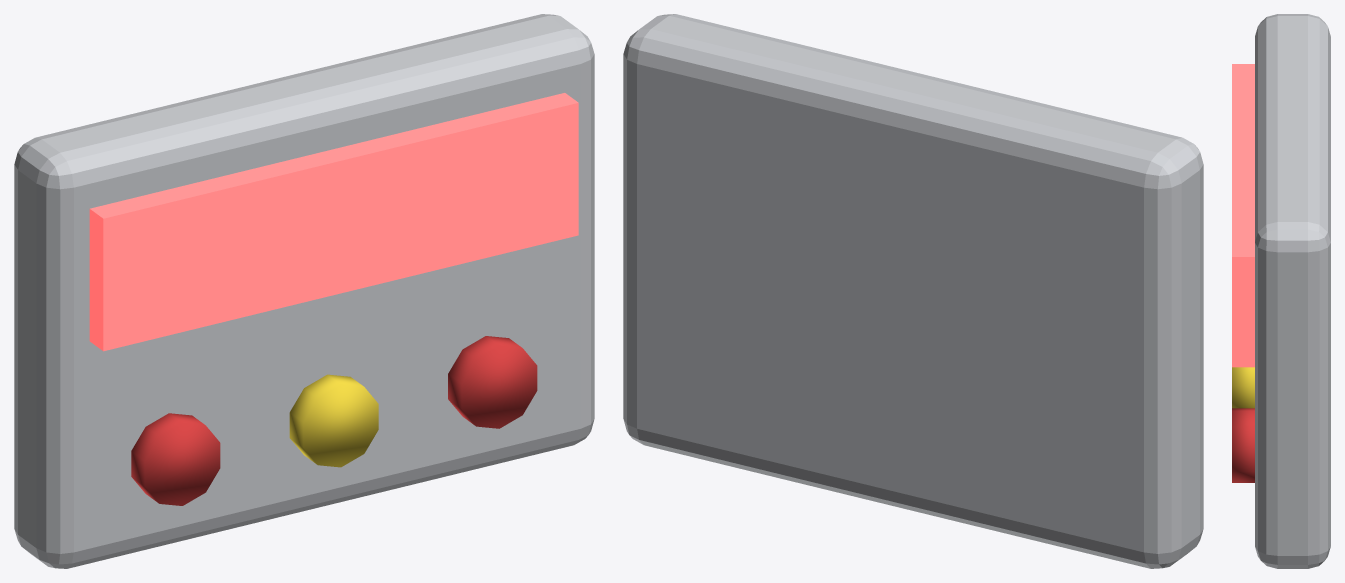
Rendered from beacon_alarm_panel.glb.
The picture shows the model from 3 angles, left to right: view 1: azimuth 30°, elevation 25°; view 2: azimuth 150°, elevation 25°; view 3: azimuth 270°, elevation 25°; orthographic projection. The views are drawn at different scales.
Parts seen in each view (by area): view 1: GD_beacon_alarm_panel__m0, GD_beacon_alarm_panel__m1, GD_beacon_alarm_panel__m2, GD_beacon_alarm_panel__m3; view 2: GD_beacon_alarm_panel__m0; view 3: GD_beacon_alarm_panel__m0, GD_beacon_alarm_panel__m1, GD_beacon_alarm_panel__m2, GD_beacon_alarm_panel__m3.
Boxes of the visible parts, x1,y1,x2,y2 form: GD_beacon_alarm_panel__m0: (14,14,594,568); GD_beacon_alarm_panel__m1: (89,93,578,351); GD_beacon_alarm_panel__m2: (131,336,537,505); GD_beacon_alarm_panel__m3: (289,374,378,467); GD_beacon_alarm_panel__m0: (623,14,1203,568); GD_beacon_alarm_panel__m0: (1255,14,1330,568); GD_beacon_alarm_panel__m1: (1232,64,1254,367); GD_beacon_alarm_panel__m2: (1232,408,1254,482); GD_beacon_alarm_panel__m3: (1232,367,1254,408).
Bounding box in the file's own units: 0.35 × 0.25 × 0.065.
